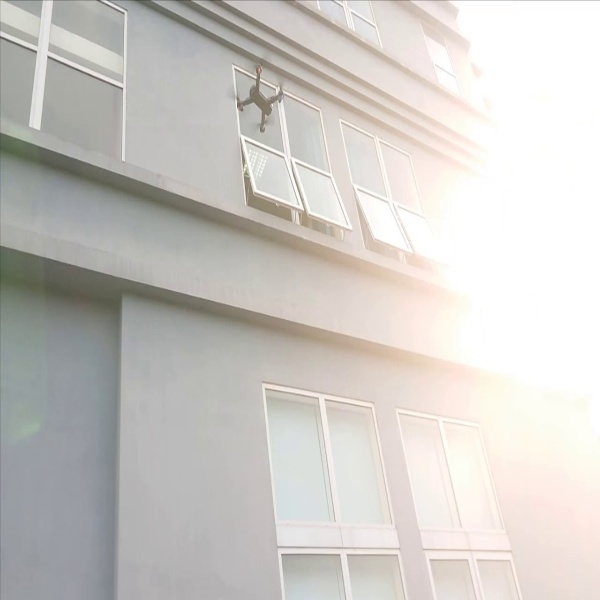drone: (216, 50, 292, 135)
